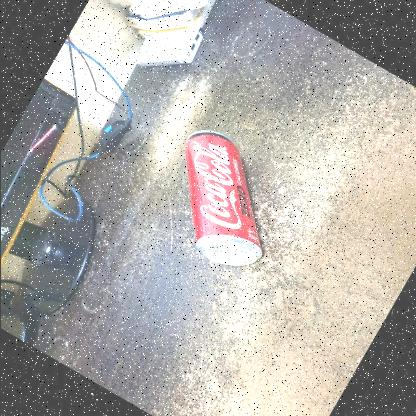Can: (181, 133, 263, 269)
